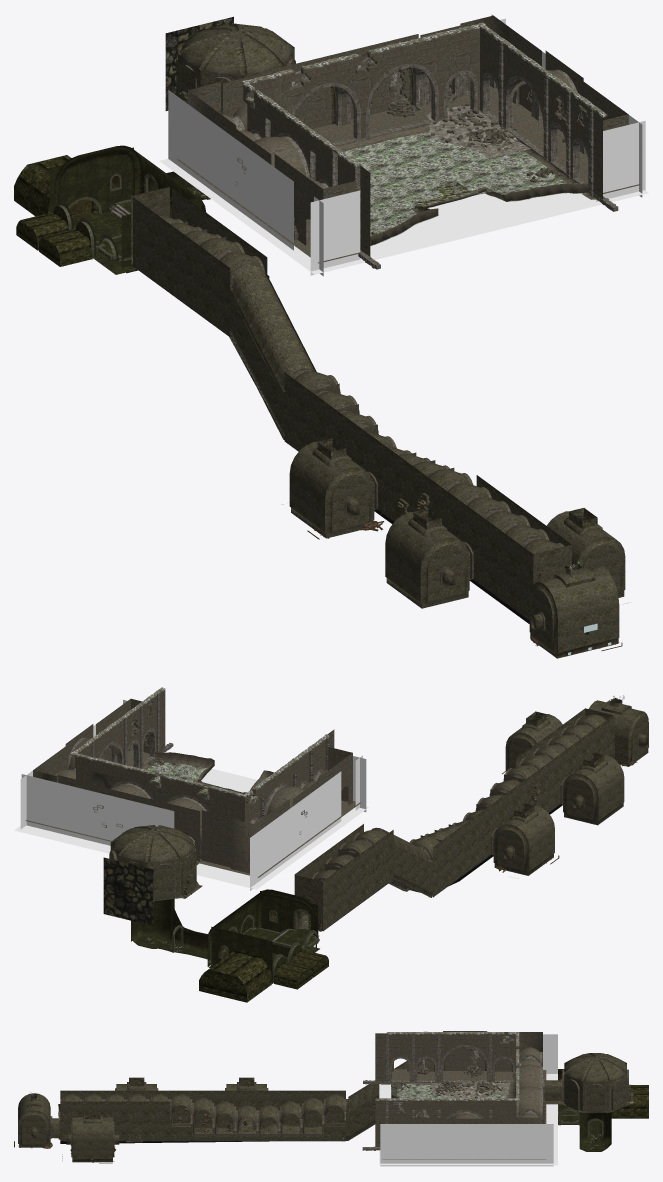
File: map_part1_DDS.fbx
The picture shows the model from 3 angles, top to bottom: view 1: azimuth 30°, elevation 25°; view 2: azimuth 150°, elevation 25°; view 3: azimuth 270°, elevation 25°; orthographic projection. The views are drawn at different scales.
Visible parts, largest first — view 1: m0050B1A18, m0010B1A18, m0015B1A18, m0030B1A18, m0035B1A18, m0001B1A18, m0005B1A18, m0020B1A18, m0000B1A18; view 2: m0050B1A18, m0010B1A18, m0030B1A18, m0035B1A18, m0015B1A18, m0005B1A18, m0020B1A18, m0001B1A18, m0000B1A18; view 3: m0050B1A18, m0010B1A18, m0035B1A18, m0000B1A18, m0001B1A18, m0015B1A18, m0030B1A18, m0005B1A18, m0020B1A18.
Boxes of the visible parts, x1,y1,x2,y2 form: m0050B1A18: (159,14,648,276); m0010B1A18: (283,371,571,623); m0015B1A18: (131,187,316,439); m0030B1A18: (14,145,206,274); m0035B1A18: (148,16,295,199); m0001B1A18: (529,562,622,658); m0005B1A18: (283,438,383,539); m0020B1A18: (385,508,470,608); m0000B1A18: (546,508,627,603); m0050B1A18: (14,687,368,890); m0010B1A18: (406,708,614,897); m0030B1A18: (199,889,328,1002); m0035B1A18: (103,825,207,958); m0015B1A18: (294,824,432,931); m0005B1A18: (493,803,559,875); m0020B1A18: (562,752,624,825); m0001B1A18: (589,695,648,766); m0000B1A18: (502,711,562,774); m0050B1A18: (362,1031,557,1166); m0010B1A18: (54,1090,348,1143); m0035B1A18: (544,1053,633,1151); m0000B1A18: (62,1110,119,1163); m0001B1A18: (14,1092,58,1148); m0015B1A18: (346,1061,406,1140); m0030B1A18: (558,1069,648,1125); m0005B1A18: (225,1077,268,1126); m0020B1A18: (115,1077,158,1090).
Bounding box in the file's own units: 37.83 × 17.99 × 78.01.
